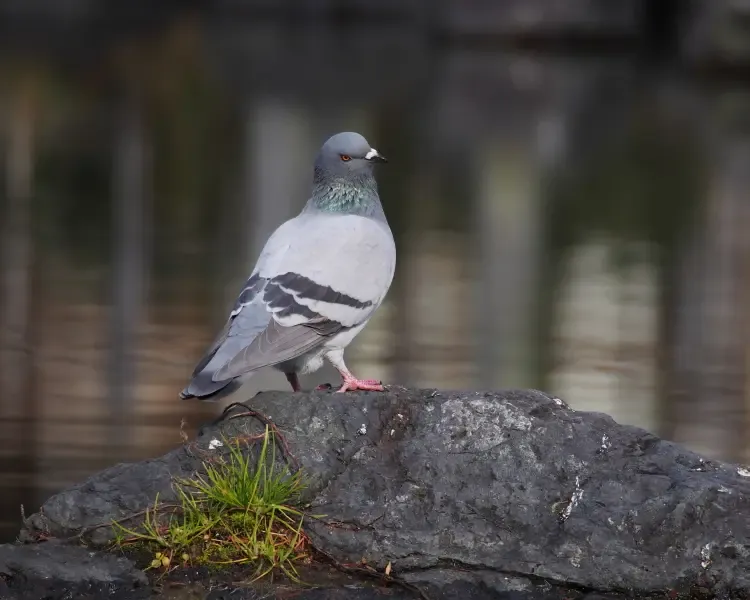Flying Rat: (189, 130, 400, 402)
